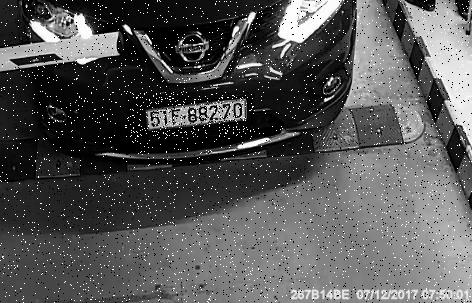License-plate: (127, 93, 256, 138)
